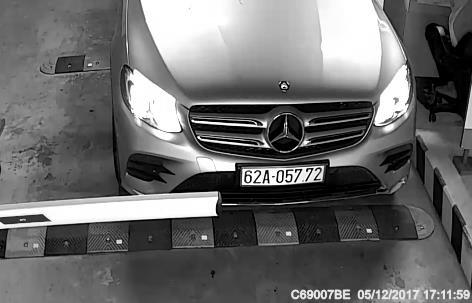License-plate: (235, 156, 343, 200)
